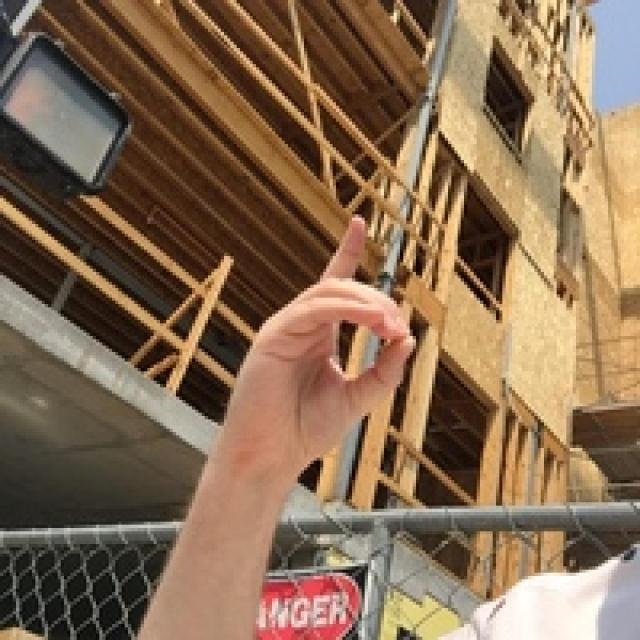D: (181, 178, 484, 486)
